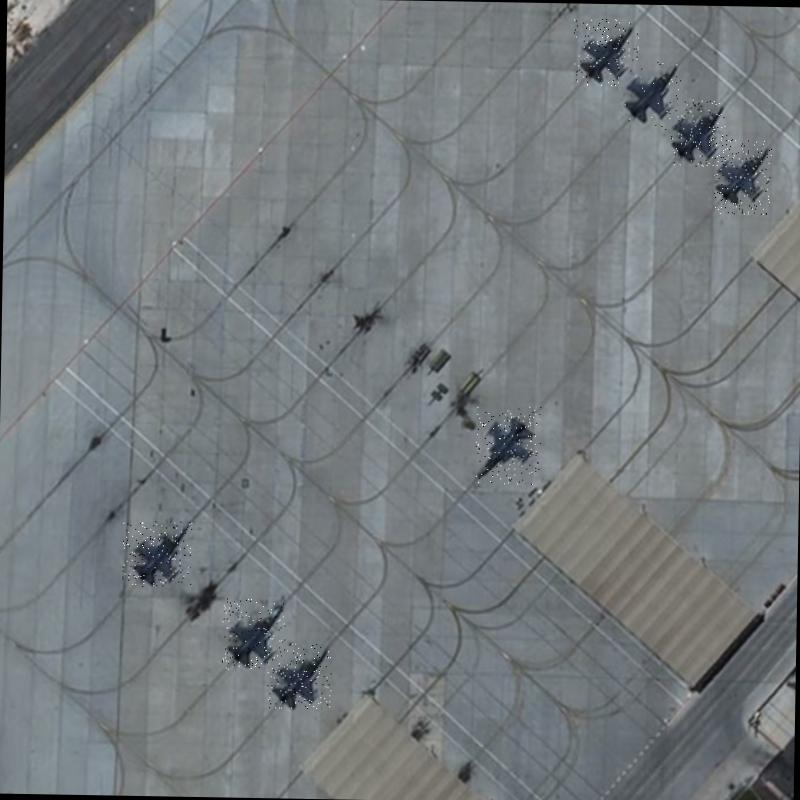A5: (474, 404, 540, 485), (122, 520, 192, 588), (222, 598, 286, 670), (572, 18, 638, 86), (266, 642, 332, 709), (714, 138, 772, 214), (620, 60, 681, 130), (668, 98, 727, 166)
